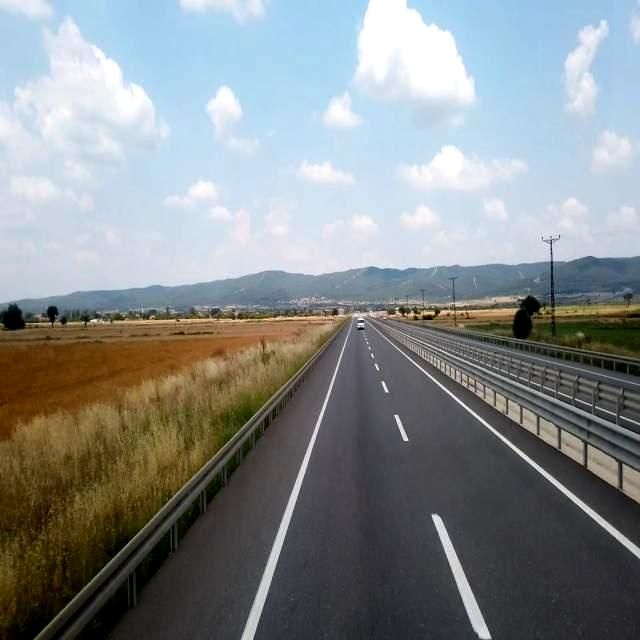road: (105, 323, 639, 639)
